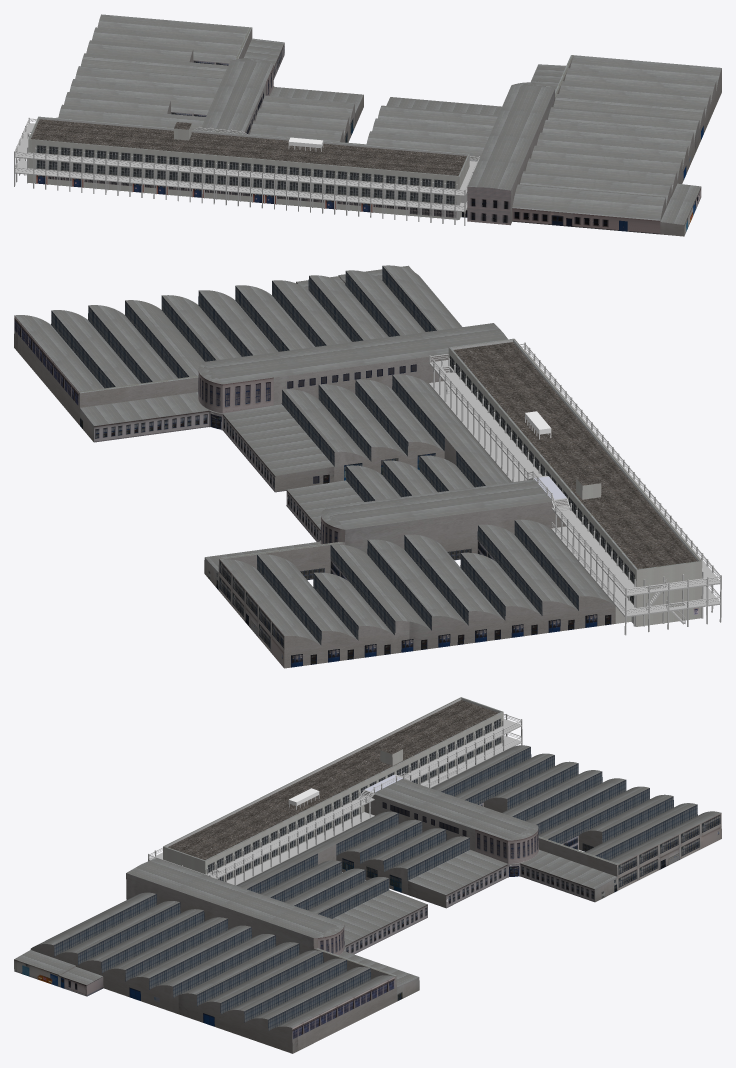
3 views of the same model, one above another, from view 1: azimuth 30°, elevation 25°; view 2: azimuth 150°, elevation 25°; view 3: azimuth 270°, elevation 25° (orthographic). The views are drawn at different scales.
Visible parts, largest first — view 1: Mesh58 Group1 Model; view 2: Mesh58 Group1 Model; view 3: Mesh58 Group1 Model.
Boxes of the visible parts, <box> form: Mesh58 Group1 Model: <box>14,14,721,236</box>; Mesh58 Group1 Model: <box>14,265,721,668</box>; Mesh58 Group1 Model: <box>14,697,721,1053</box>.
Bounding box in the file's own units: 182 × 15.67 × 171.
72 materials, 68 textured.
